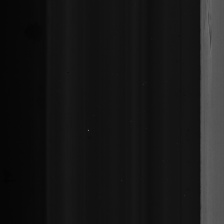silk_spot: (201, 0, 217, 57)
